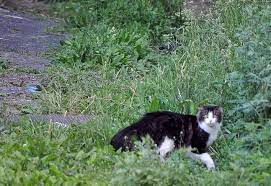cat: (108, 101, 225, 170)
